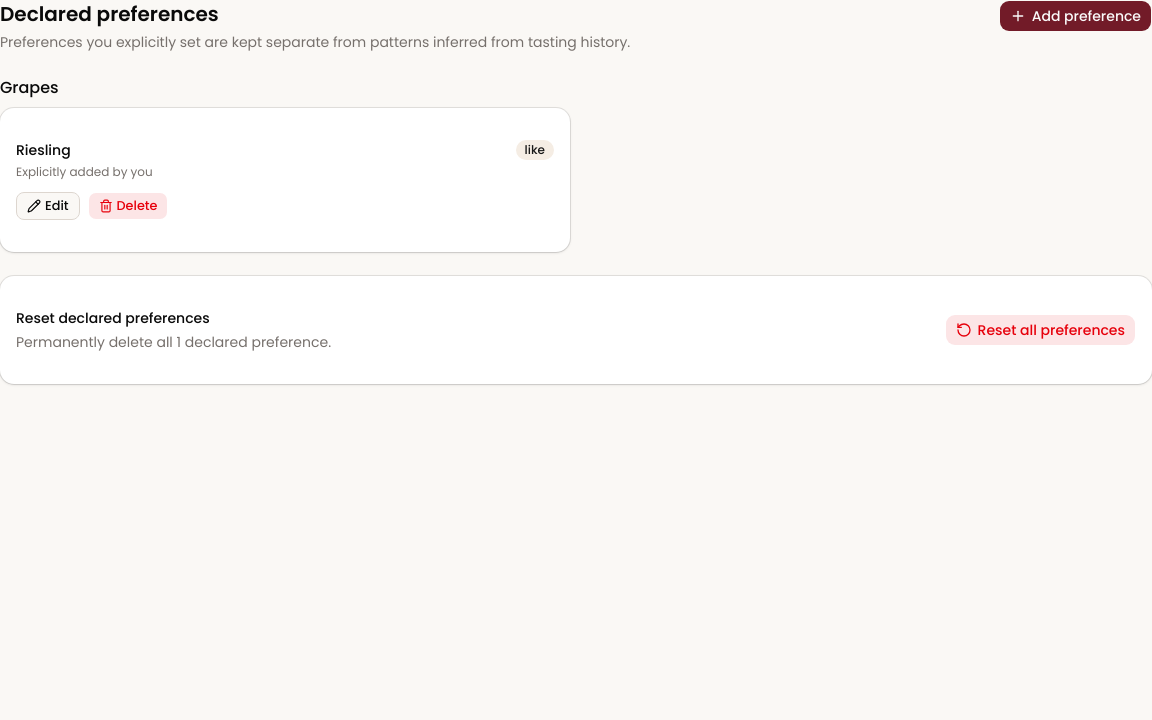
Scenario: TastePreferences › names a delete confirmation and keeps failures visible
Click the button with aria-label "Delete Riesling": (128, 206) [88,192,168,220]
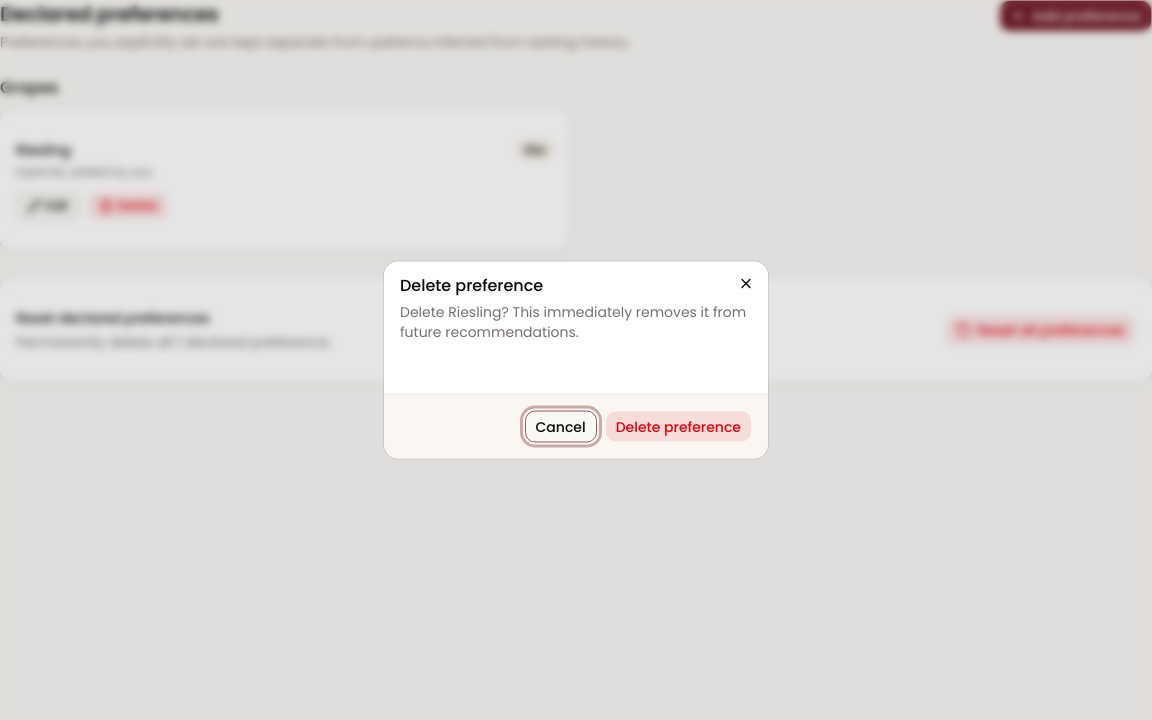
Result: the dialog "Delete preference" shows "Delete Riesling?" at [384,262,768,458]
Click the button "Delete preference": (678, 426) [605,410,752,442]
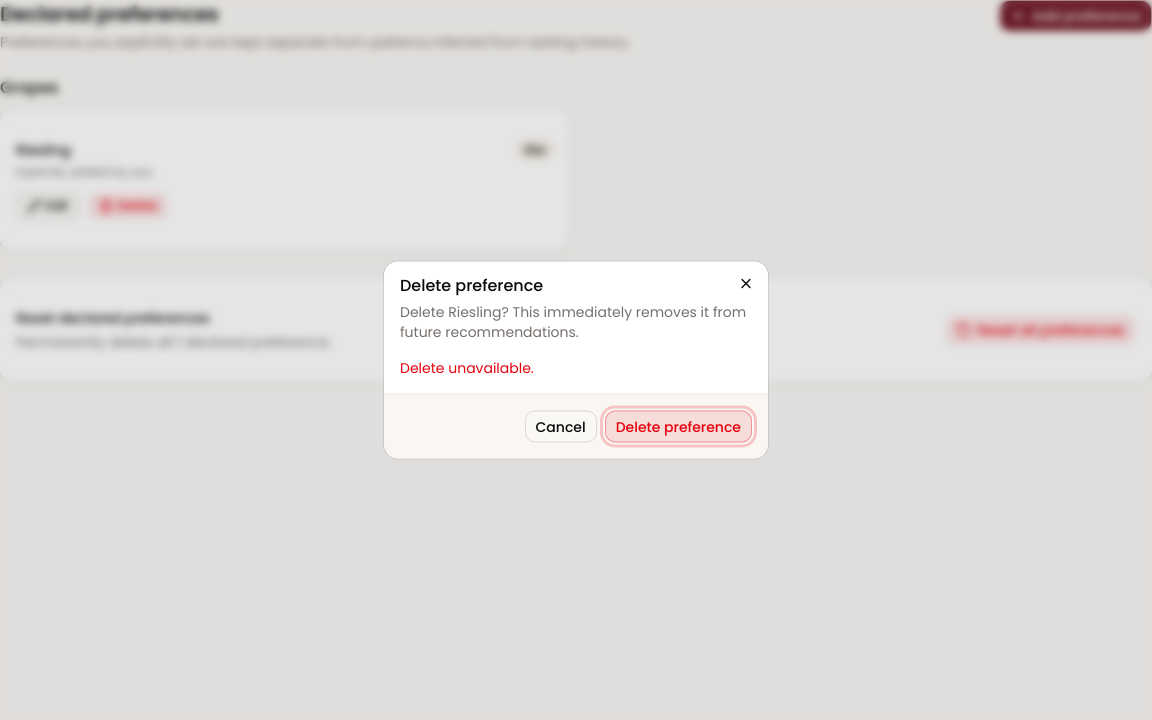
Result: the text "Delete unavailable." is shown at [400,358,534,378]
